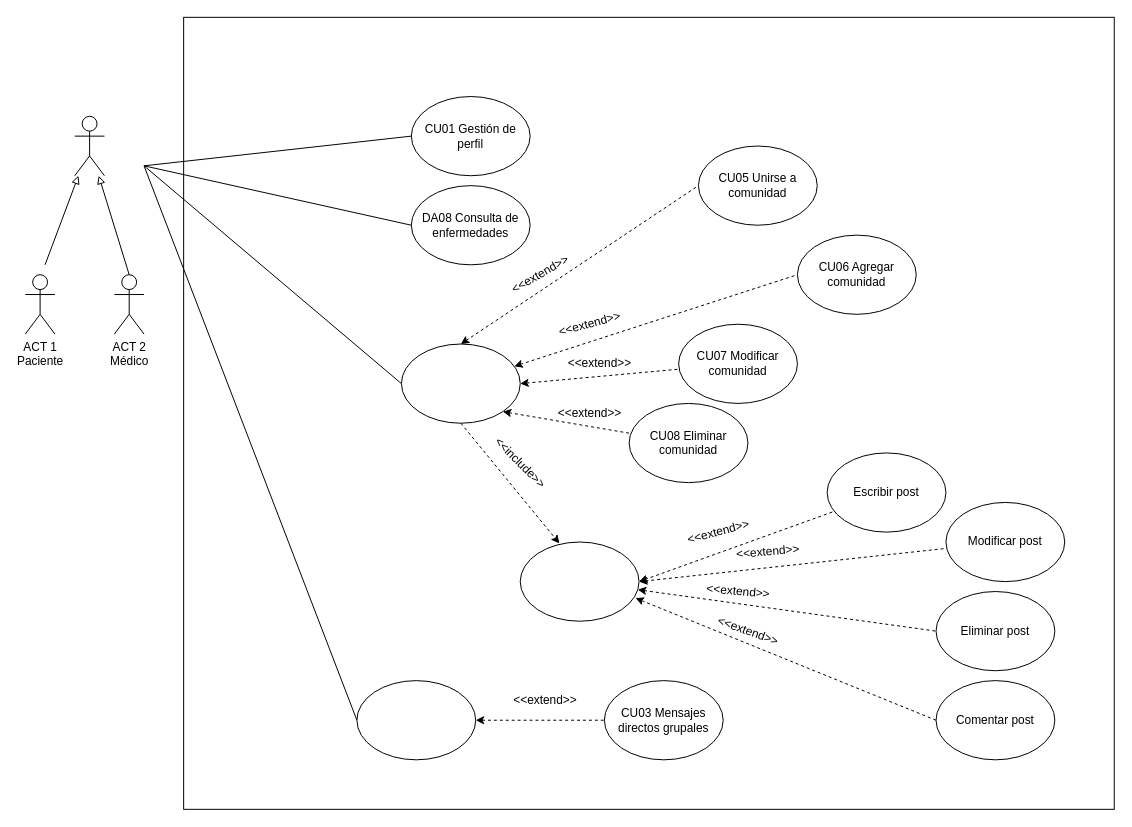
The diagram is 1132 pixels wide and 827 high, and some of its shapes have lost their labels. Here are the shapes that lost their labels. From the top down, the centre of each, then its label:
the point at 89,145: Usuario
the point at 460,383: CU02 Gestión de comunidades
the point at 579,581: CU04 Gestión de posts
the point at 416,720: DA05 Envio de mensajes directos
